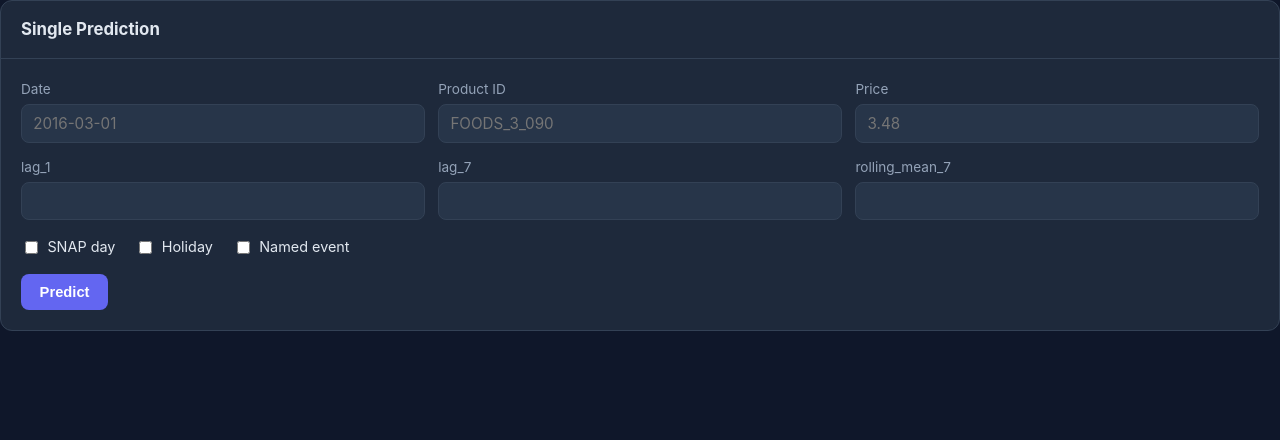
Test case: PredictionForm › blocks submission and shows errors when invalid
Step 1. Click the button "Predict" → click(65, 292), box [21, 274, 108, 310]
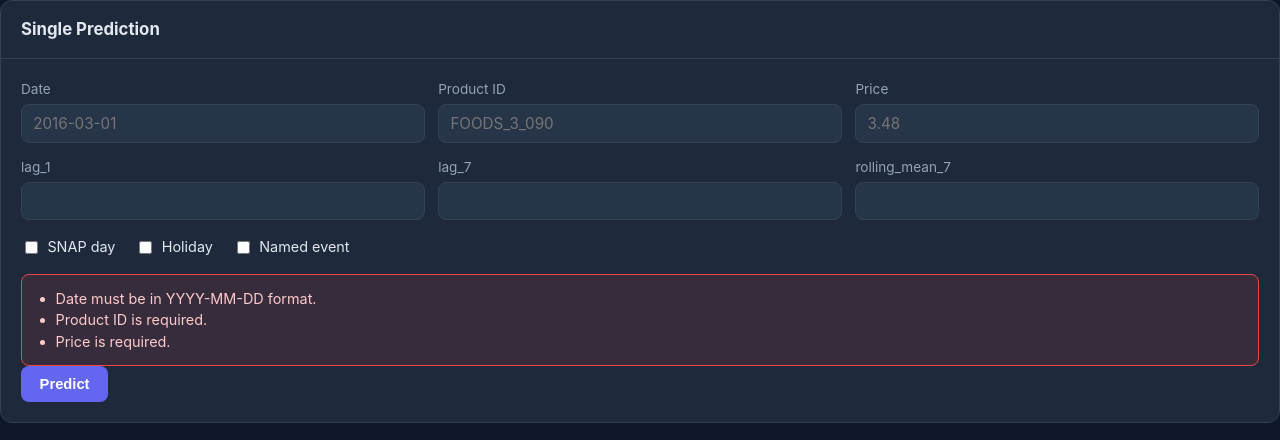
Check: the message "Date must be in YYYY-MM-DD format. Product ID is required. Price is required." is shown, box [21, 274, 1259, 366]
